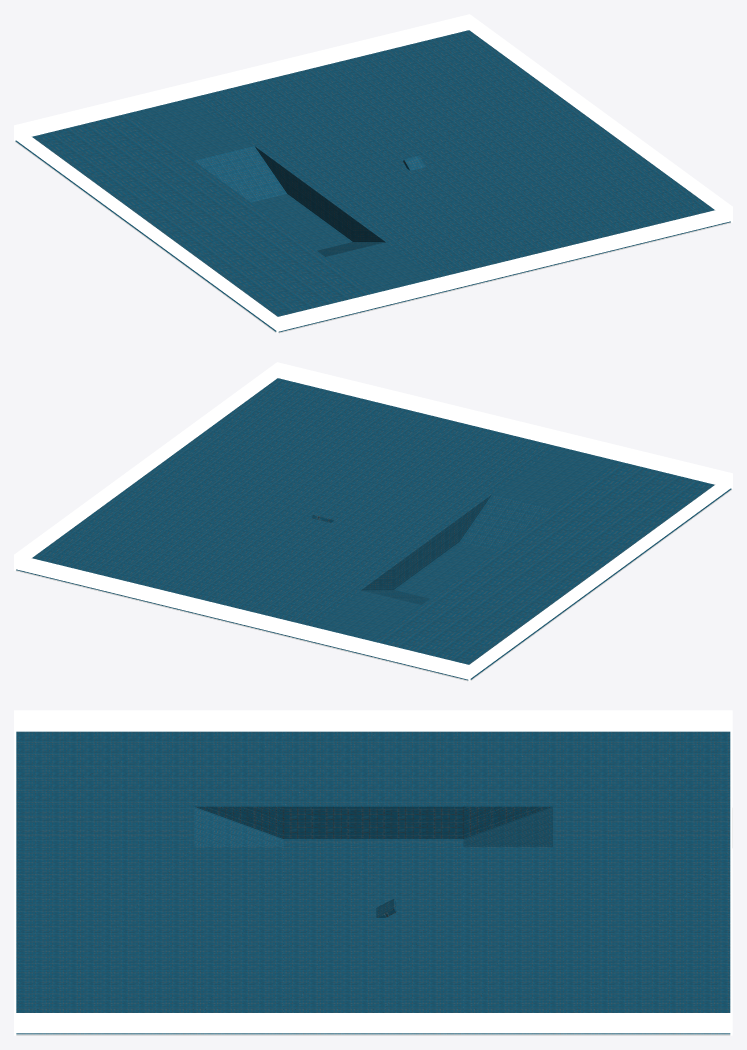
The model's file is arena1.glb.
The picture shows the model from 3 angles, top to bottom: view 1: azimuth 30°, elevation 25°; view 2: azimuth 150°, elevation 25°; view 3: azimuth 270°, elevation 25°; orthographic projection. The views are drawn at different scales.
Parts seen in each view (by area): view 1: ground, wall4, wall1, wall2, wall3, Plane.001; view 2: ground, wall1, wall4, wall2, wall3, Plane.001; view 3: ground, wall3, wall2, Plane, wall1, wall4.
Part boxes in pixels (x1=…): ground: x1=15, y1=30, x2=730, y2=332; wall4: x1=14, y1=14, x2=469, y2=141; wall1: x1=276, y1=206, x2=731, y2=333; wall2: x1=469, y1=14, x2=732, y2=222; wall3: x1=14, y1=125, x2=278, y2=333; Plane.001: x1=15, y1=141, x2=390, y2=333; ground: x1=16, y1=378, x2=731, y2=680; wall1: x1=276, y1=362, x2=732, y2=489; wall4: x1=16, y1=554, x2=470, y2=681; wall2: x1=14, y1=362, x2=277, y2=570; wall3: x1=468, y1=473, x2=731, y2=681; Plane.001: x1=356, y1=489, x2=731, y2=681; ground: x1=16, y1=731, x2=730, y2=1034; wall3: x1=16, y1=710, x2=732, y2=731; wall2: x1=16, y1=1013, x2=732, y2=1034; Plane: x1=16, y1=1034, x2=730, y2=1035; wall1: x1=14, y1=710, x2=16, y2=1035; wall4: x1=730, y1=711, x2=732, y2=1035.
Size of the model in its own units: 300 by 25.05 by 300.
Materials: 2 (1 with a texture image).
